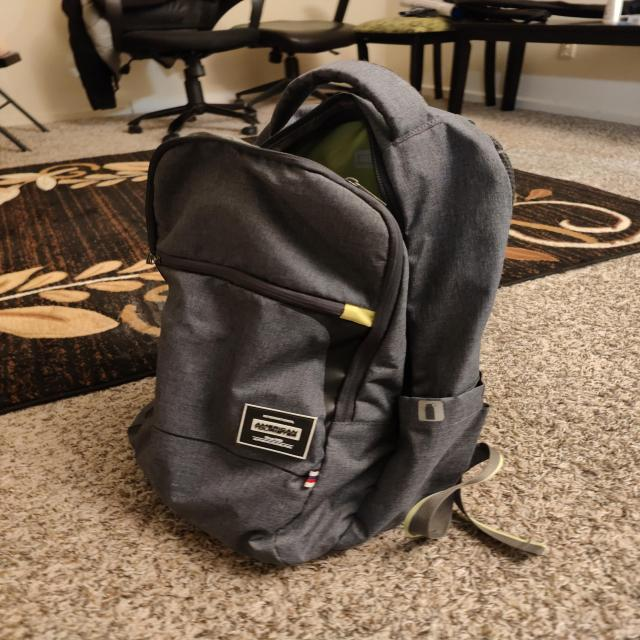bag: (164, 82, 510, 549)
